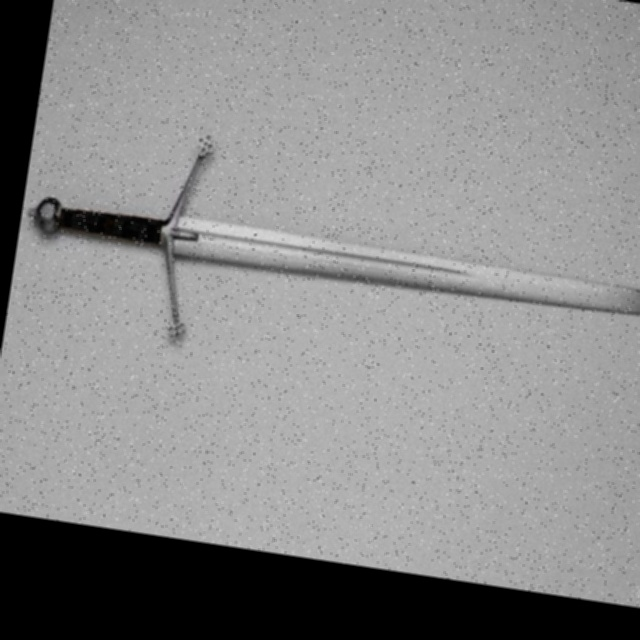Sharp-Object: (16, 178, 640, 352)
